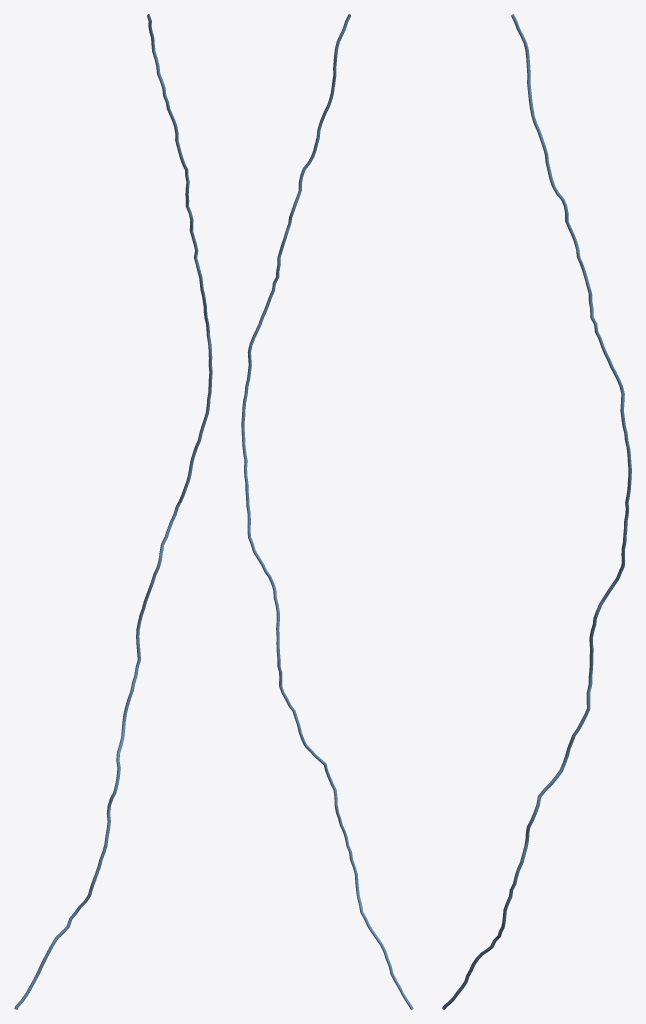
The model's file is sweep80.fbx.
The picture shows the model from 3 angles, left to right: view 1: azimuth 30°, elevation 25°; view 2: azimuth 150°, elevation 25°; view 3: azimuth 330°, elevation 25°; orthographic projection. The views are drawn at different scales.
Visible parts, largest first — view 1: sweep80; view 2: sweep80; view 3: sweep80.
Part boxes in pixels (left/top/right/bottom): sweep80: left=14, top=14, right=212, bottom=1009; sweep80: left=241, top=14, right=413, bottom=1009; sweep80: left=442, top=14, right=631, bottom=1009.
Bounding box in the file's own units: 1.27 × 6.45 × 0.5165.
